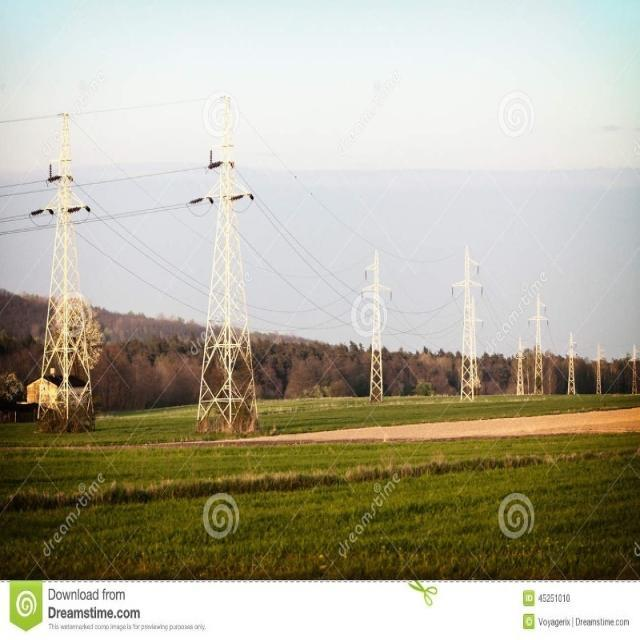non-critical vegetation: (190, 126, 282, 432), (30, 126, 100, 410), (352, 247, 395, 412), (448, 237, 487, 401)
